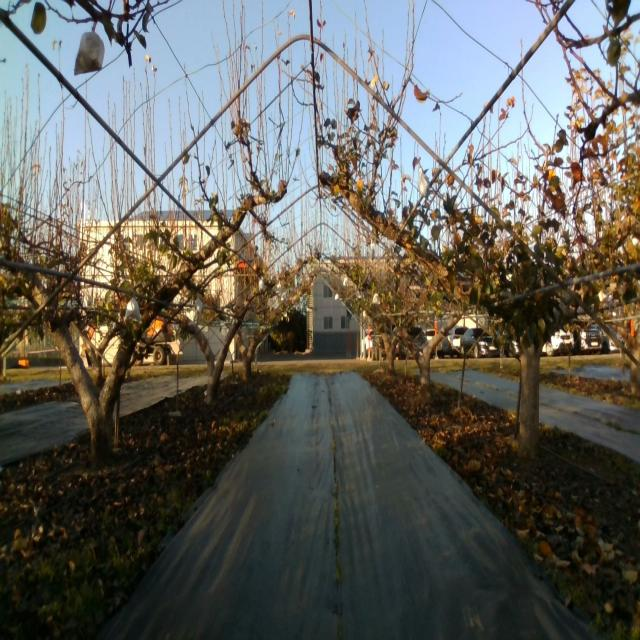pearbags: (74, 31, 105, 76), (124, 297, 142, 323), (418, 174, 431, 202)
